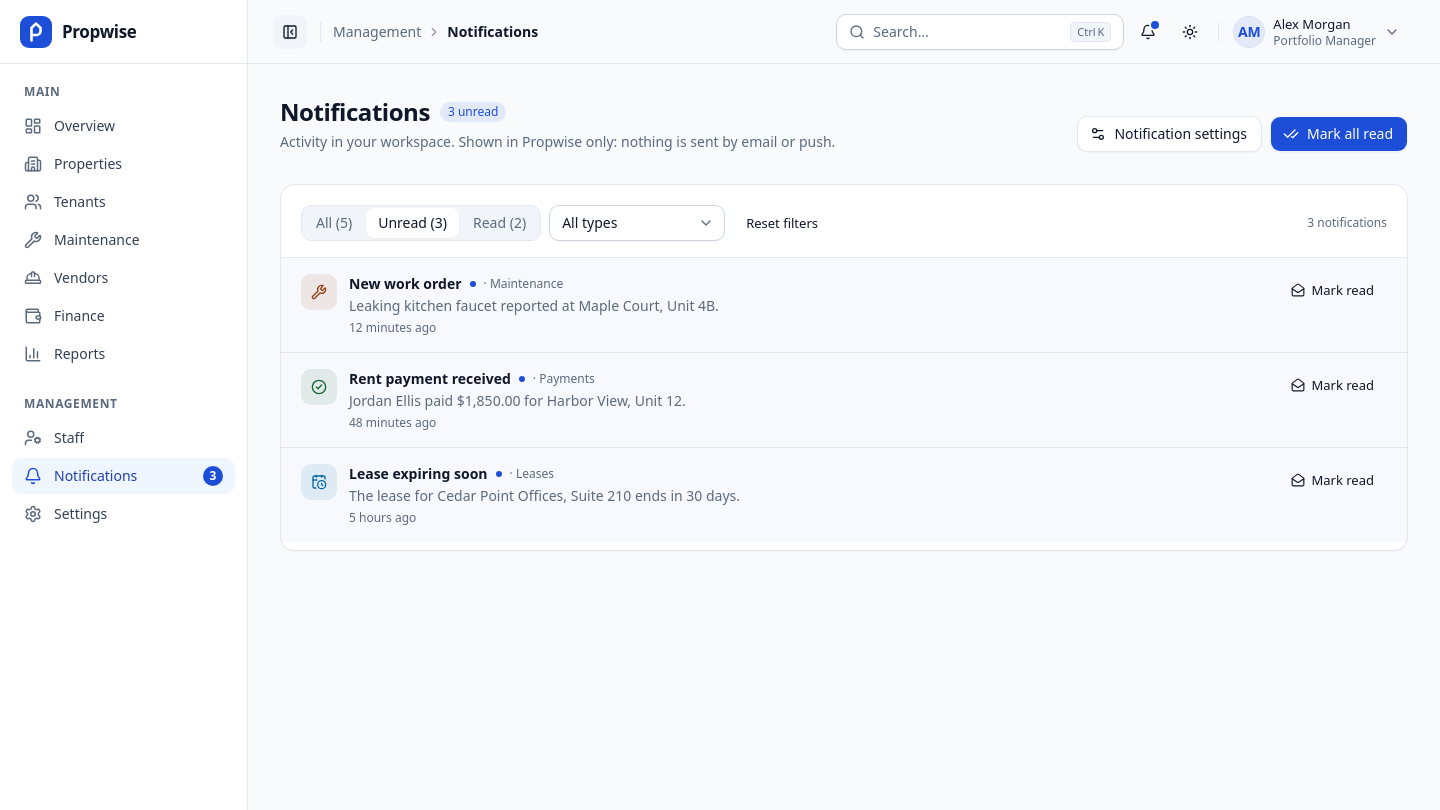
it: Notifications page › filters by read status and type, kept in the URL
Click the dropdown named "Filter by type" at point(637, 223), box [549,205,725,241]
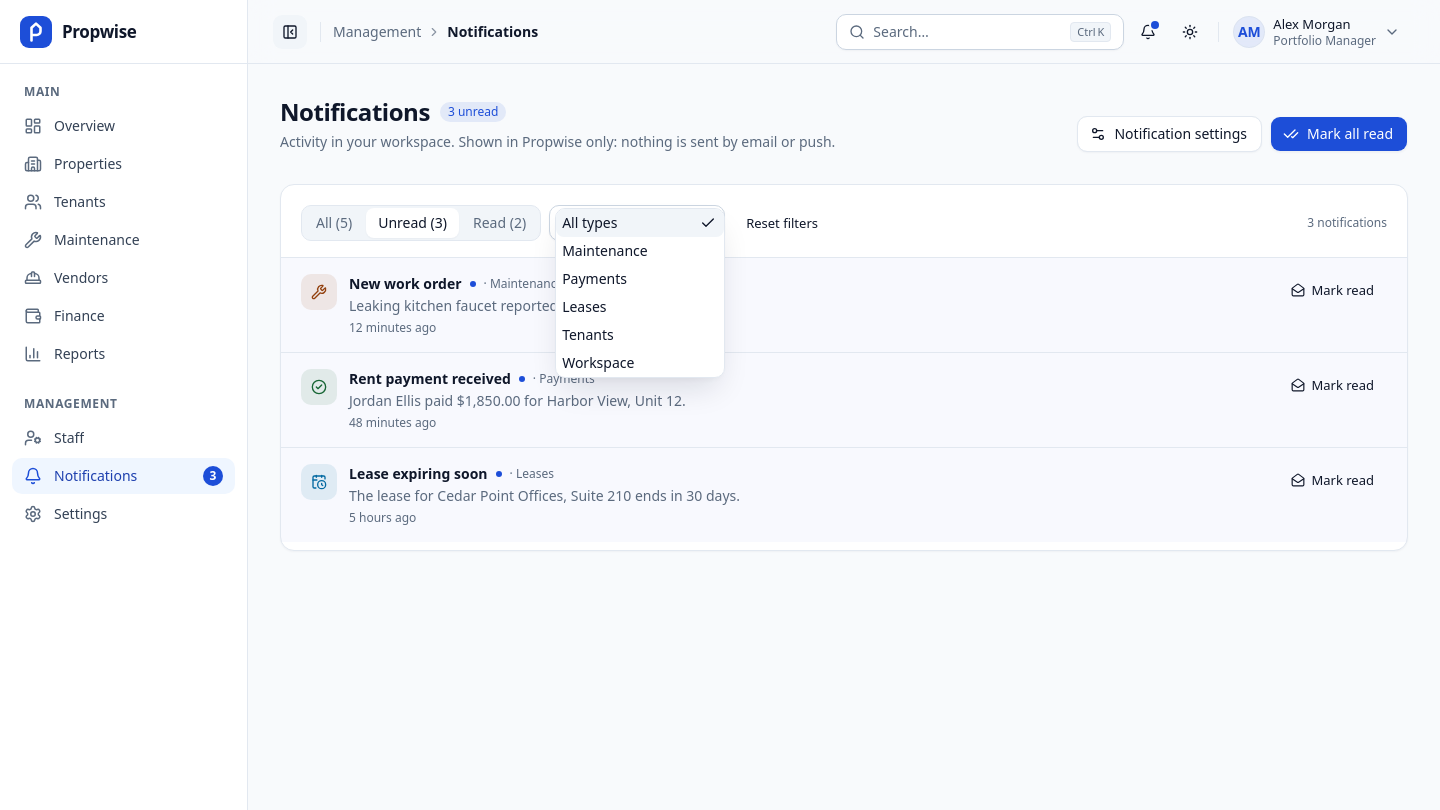
Click the option "Leases" at point(584, 306), box [562,297,606,316]
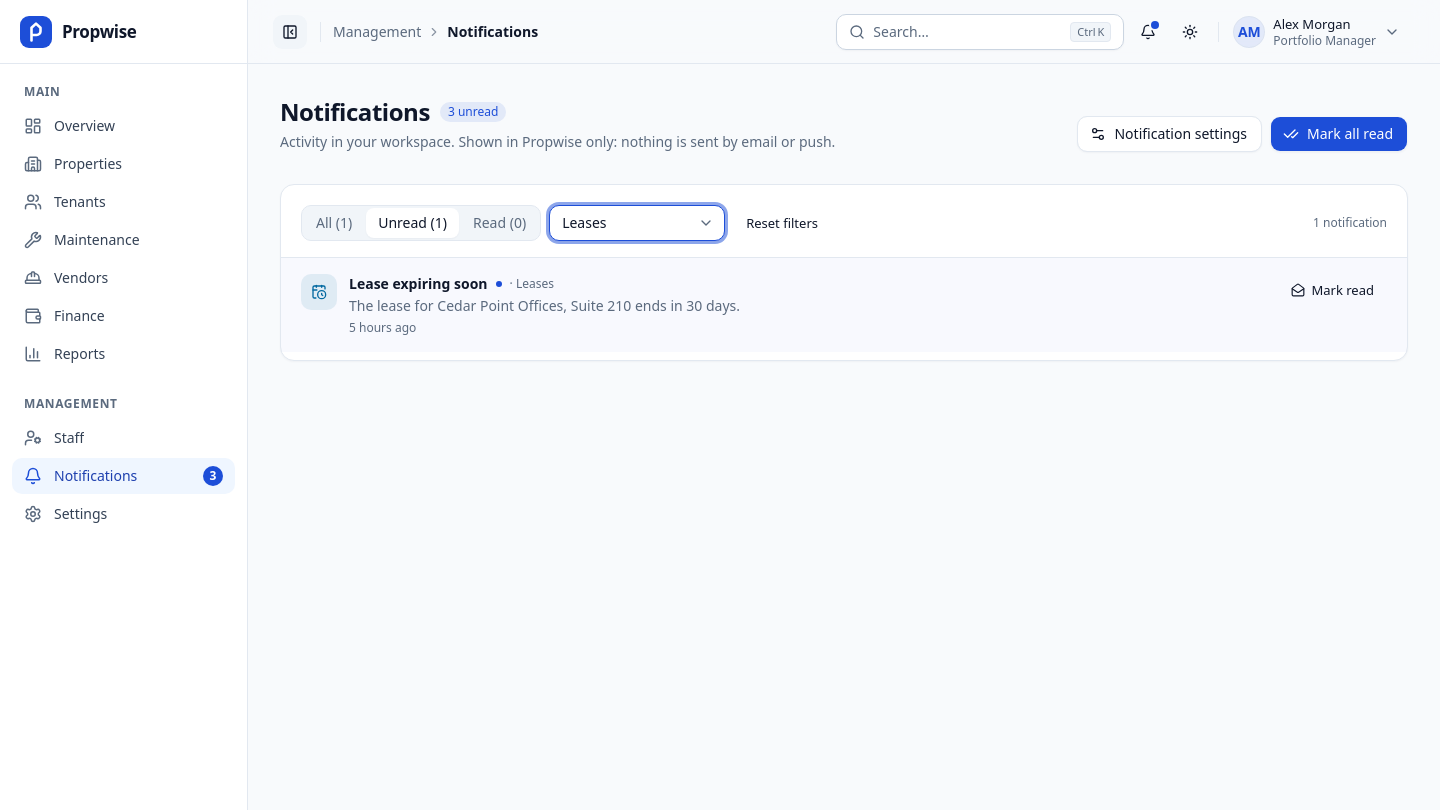
Click the radio button labelled "Read (0)" at point(500, 223), box [461,208,538,238]
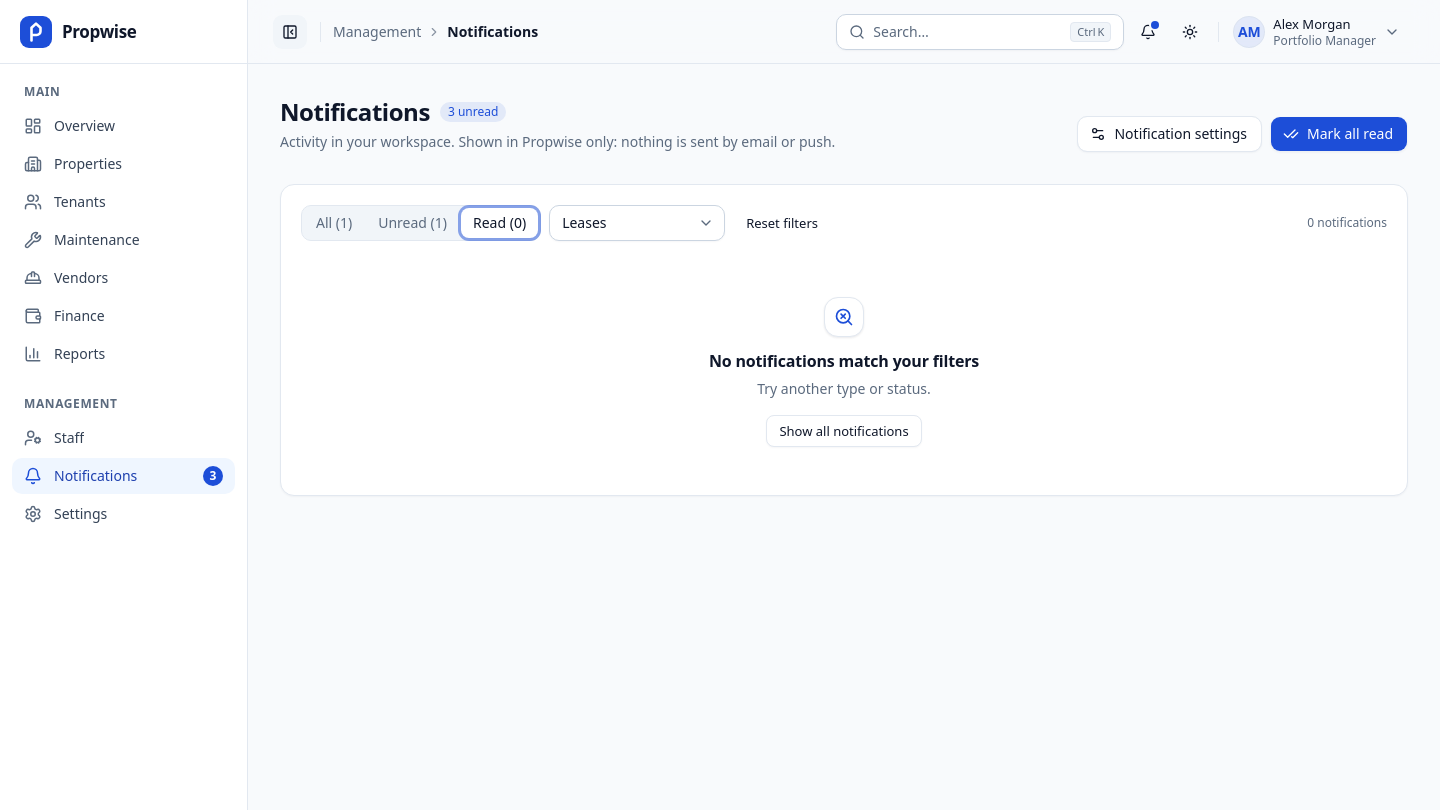
expect the heading "No notifications match your filters" is shown: met, box [709,349,979,373]
